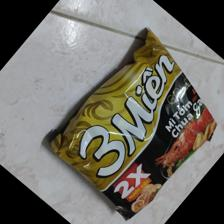3mien: (43, 26, 218, 222)
